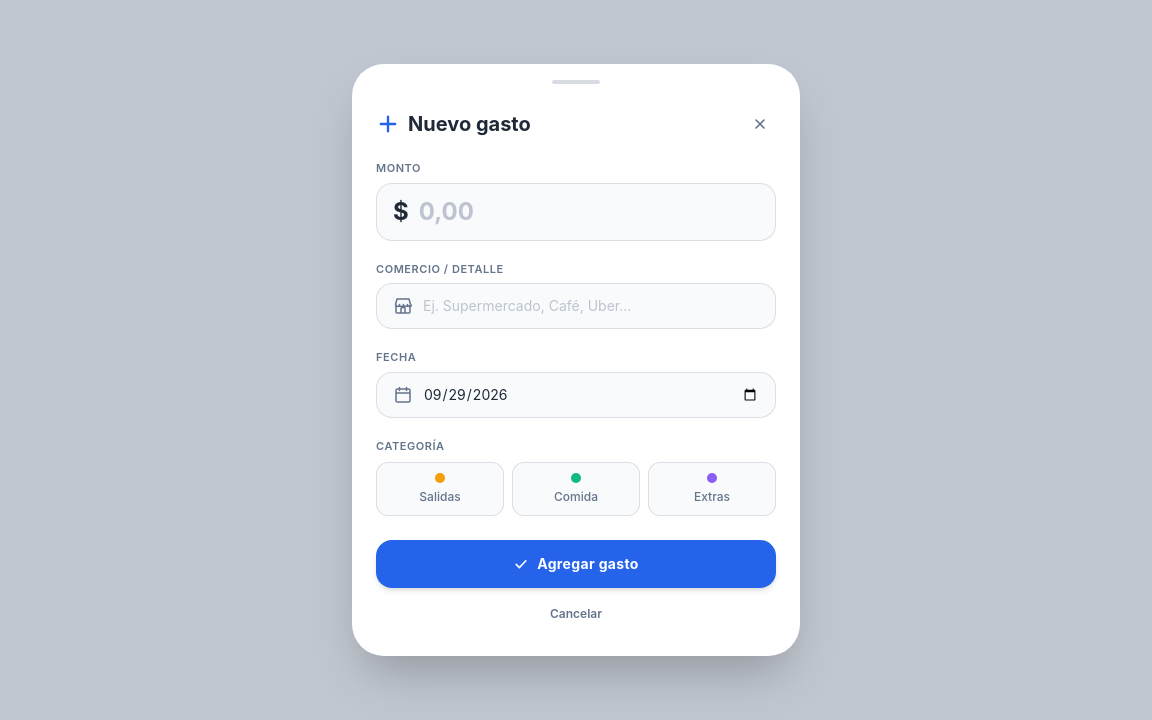
it: ModalNuevoGasto — errores inline (Req. 3.1, 3.2, 3.3) › con un error de comercio vacío, lo muestra inline y no cierra el modal
The image size is (1152, 720).
Click the button with test id "guardar-nuevo-gasto".
click(576, 564)  # box [376,540,776,588]
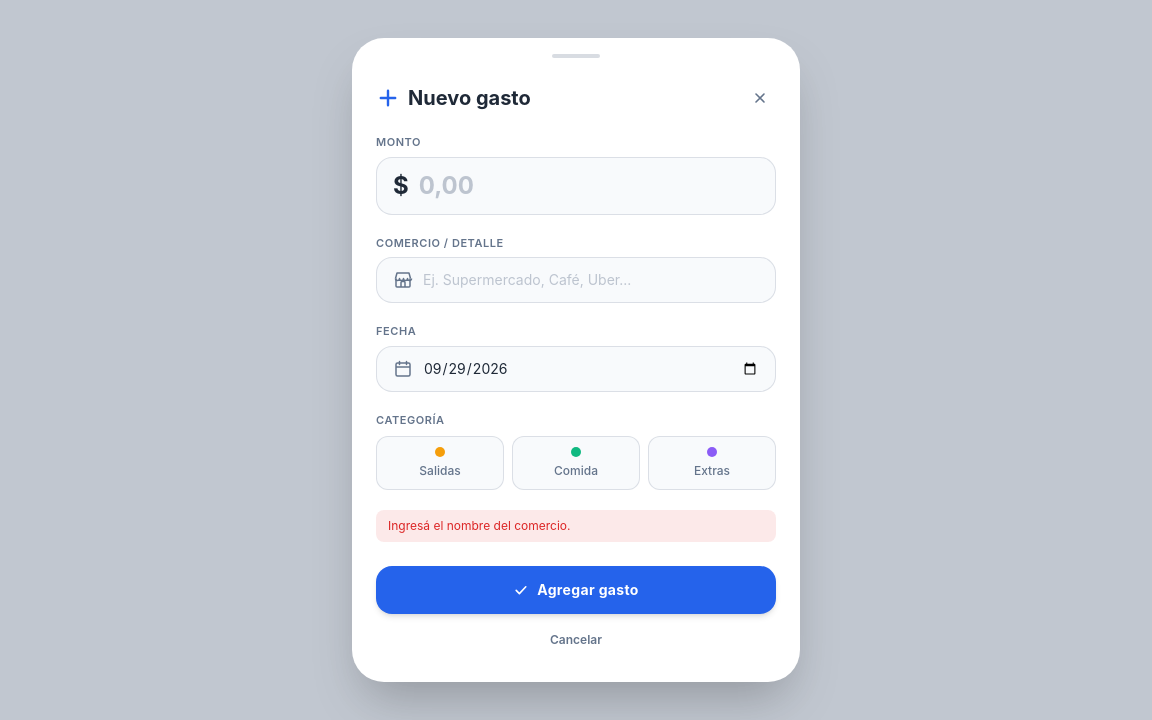
Check: the form with test id "modal-nuevo-gasto" is shown, box [352,38,800,682]
Check: the text with test id "error-nuevo-gasto" reads "Ingresá el nombre del comercio.", box [388,518,570,533]
